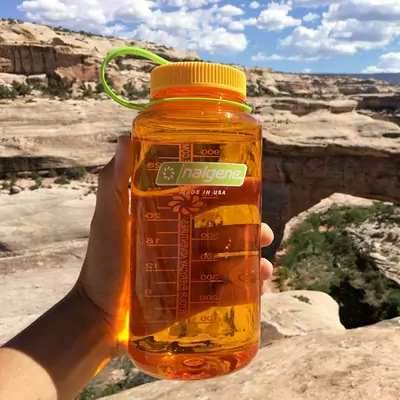bottle: (99, 47, 263, 382)
